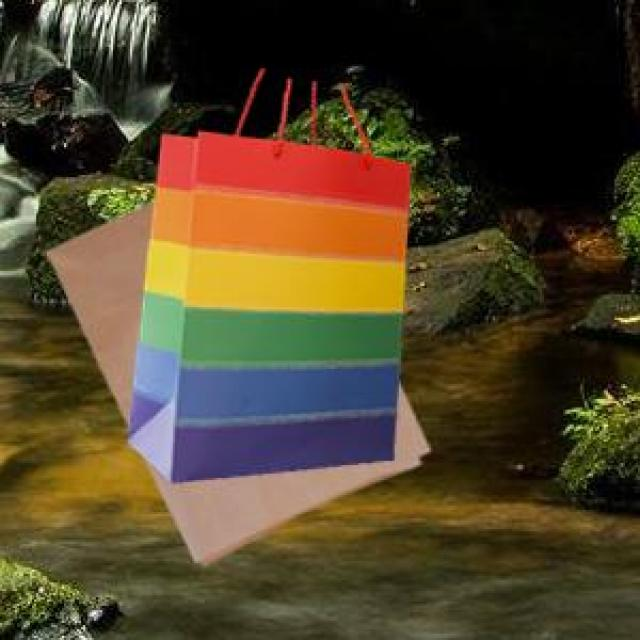Paper -Biodegradable-: (47, 129, 433, 575)
